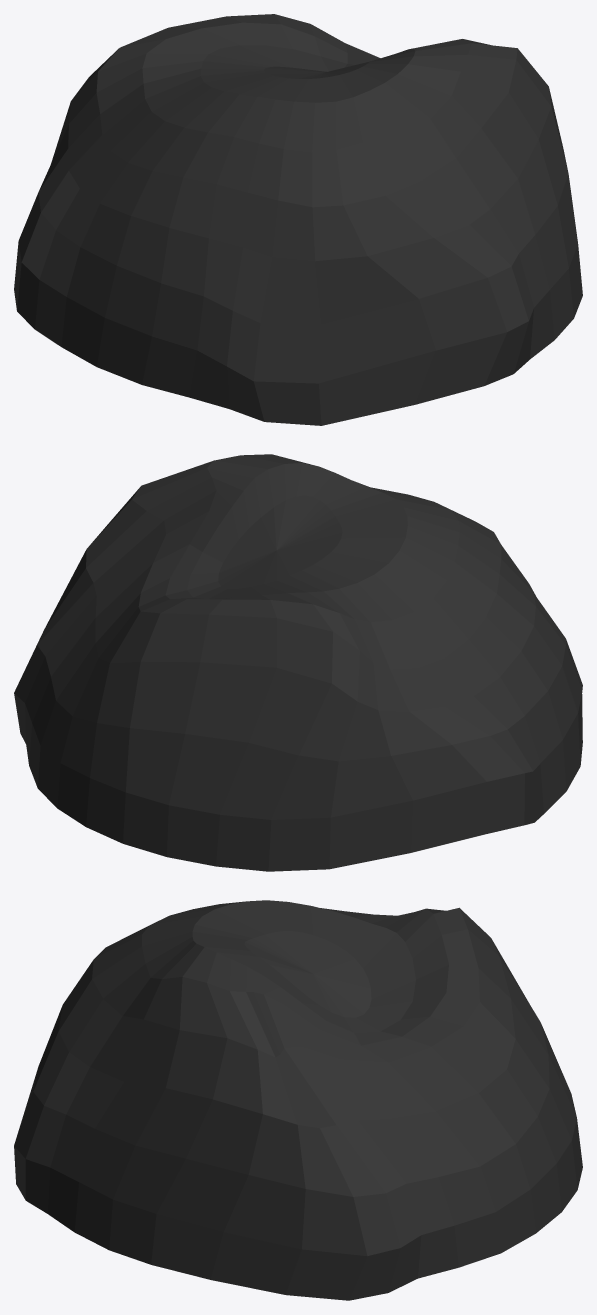
Rendered from Rock.obj.
The picture shows the model from 3 angles, top to bottom: view 1: azimuth 30°, elevation 25°; view 2: azimuth 150°, elevation 25°; view 3: azimuth 270°, elevation 25°; orthographic projection.
Parts seen in each view (by area): view 1: Sphere; view 2: Sphere; view 3: Sphere.
Part boxes in pixels (x1,y1,x2,y2): Sphere: (14, 14, 582, 425); Sphere: (14, 454, 582, 871); Sphere: (14, 900, 582, 1300).
Bounding box in the file's own units: 2.12 × 1.05 × 2.05.
